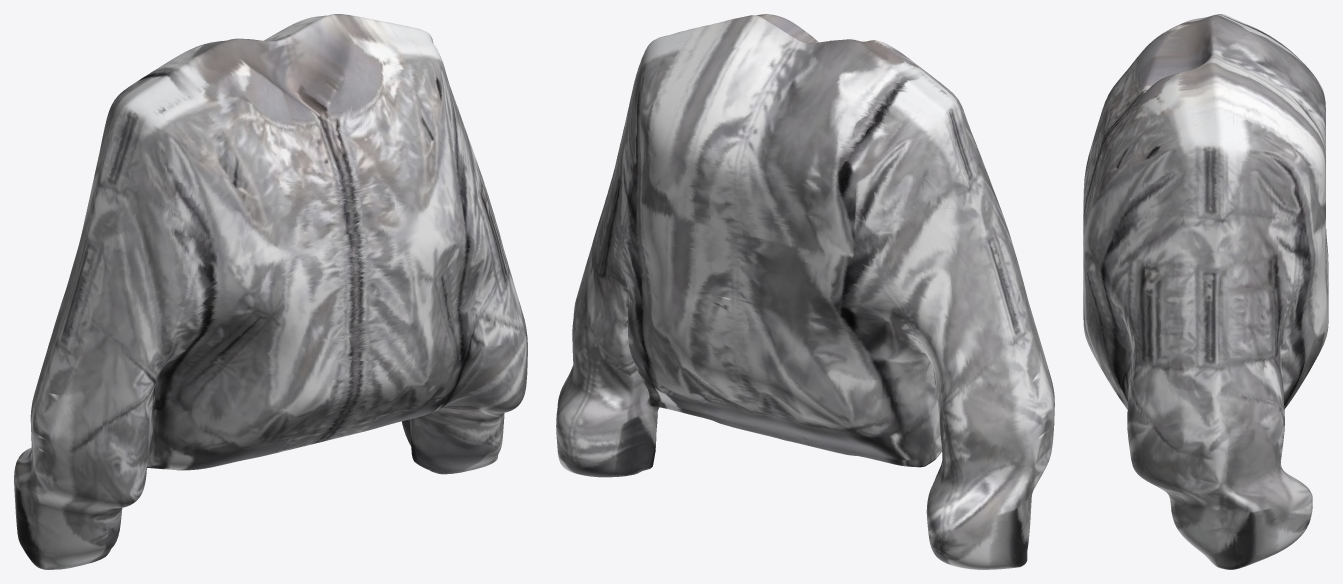
The model's file is NF002-worn-v3.glb.
3 renders of one model, left to right at view 1: azimuth 30°, elevation 25°; view 2: azimuth 150°, elevation 25°; view 3: azimuth 270°, elevation 25°, orthographic. The views are drawn at different scales.
Visible parts, largest first — view 1: NF002_worn_photo_fitted; view 2: NF002_worn_photo_fitted; view 3: NF002_worn_photo_fitted.
Part boxes in pixels (x1,y1,x2,y2): NF002_worn_photo_fitted: (14, 14, 527, 569); NF002_worn_photo_fitted: (556, 14, 1054, 569); NF002_worn_photo_fitted: (1083, 14, 1328, 569).
Size of the model in its own units: 0.6289 by 0.616 by 0.3144.
1 material, 1 textured.
